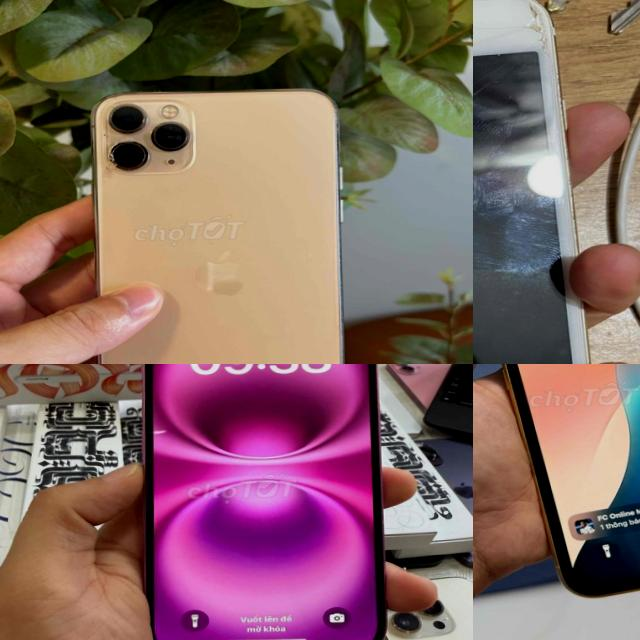gen_11: (80, 81, 360, 364)
gen_16: (129, 364, 405, 640)
gen_7_8: (473, 0, 620, 364)
gen_x_xs: (501, 364, 640, 596)
physical_damage: (473, 56, 608, 364), (473, 0, 554, 56)
